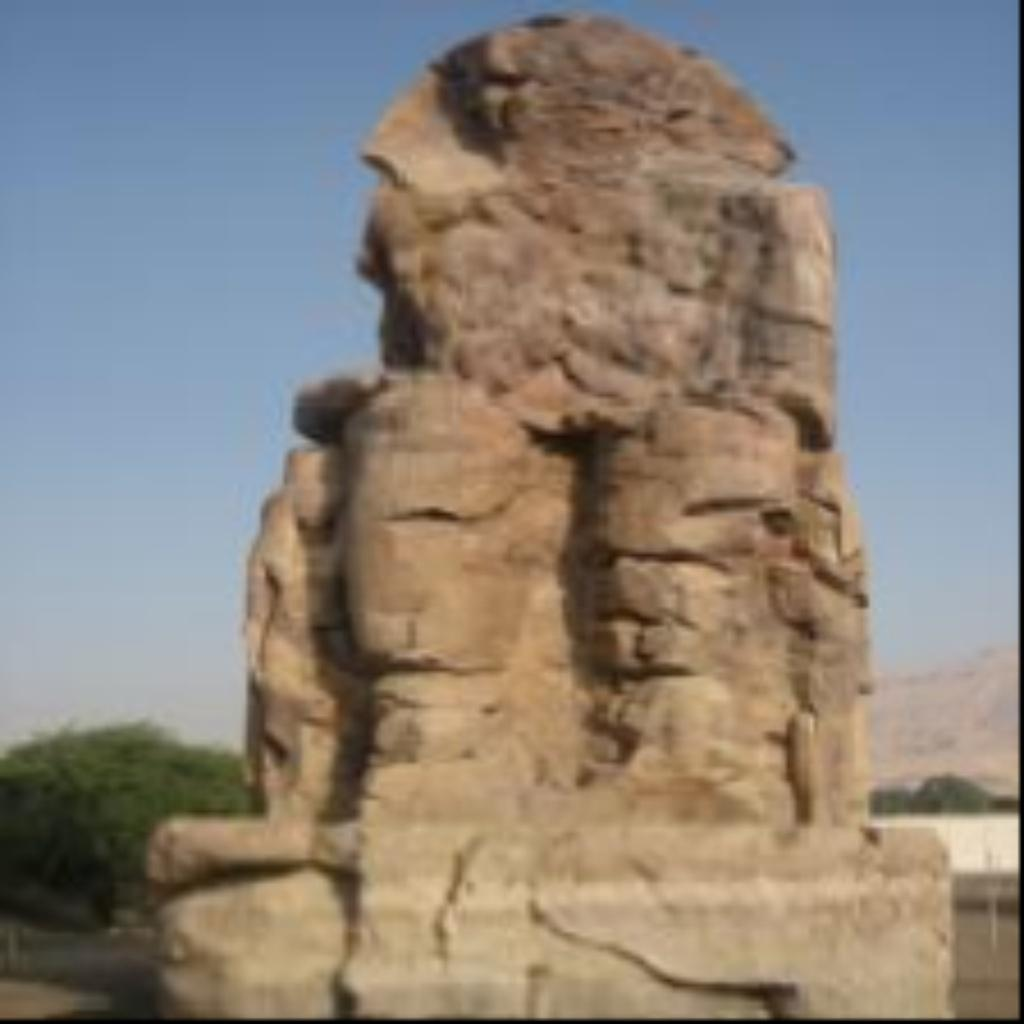Colossoi of Memnon: (128, 4, 960, 1014)
